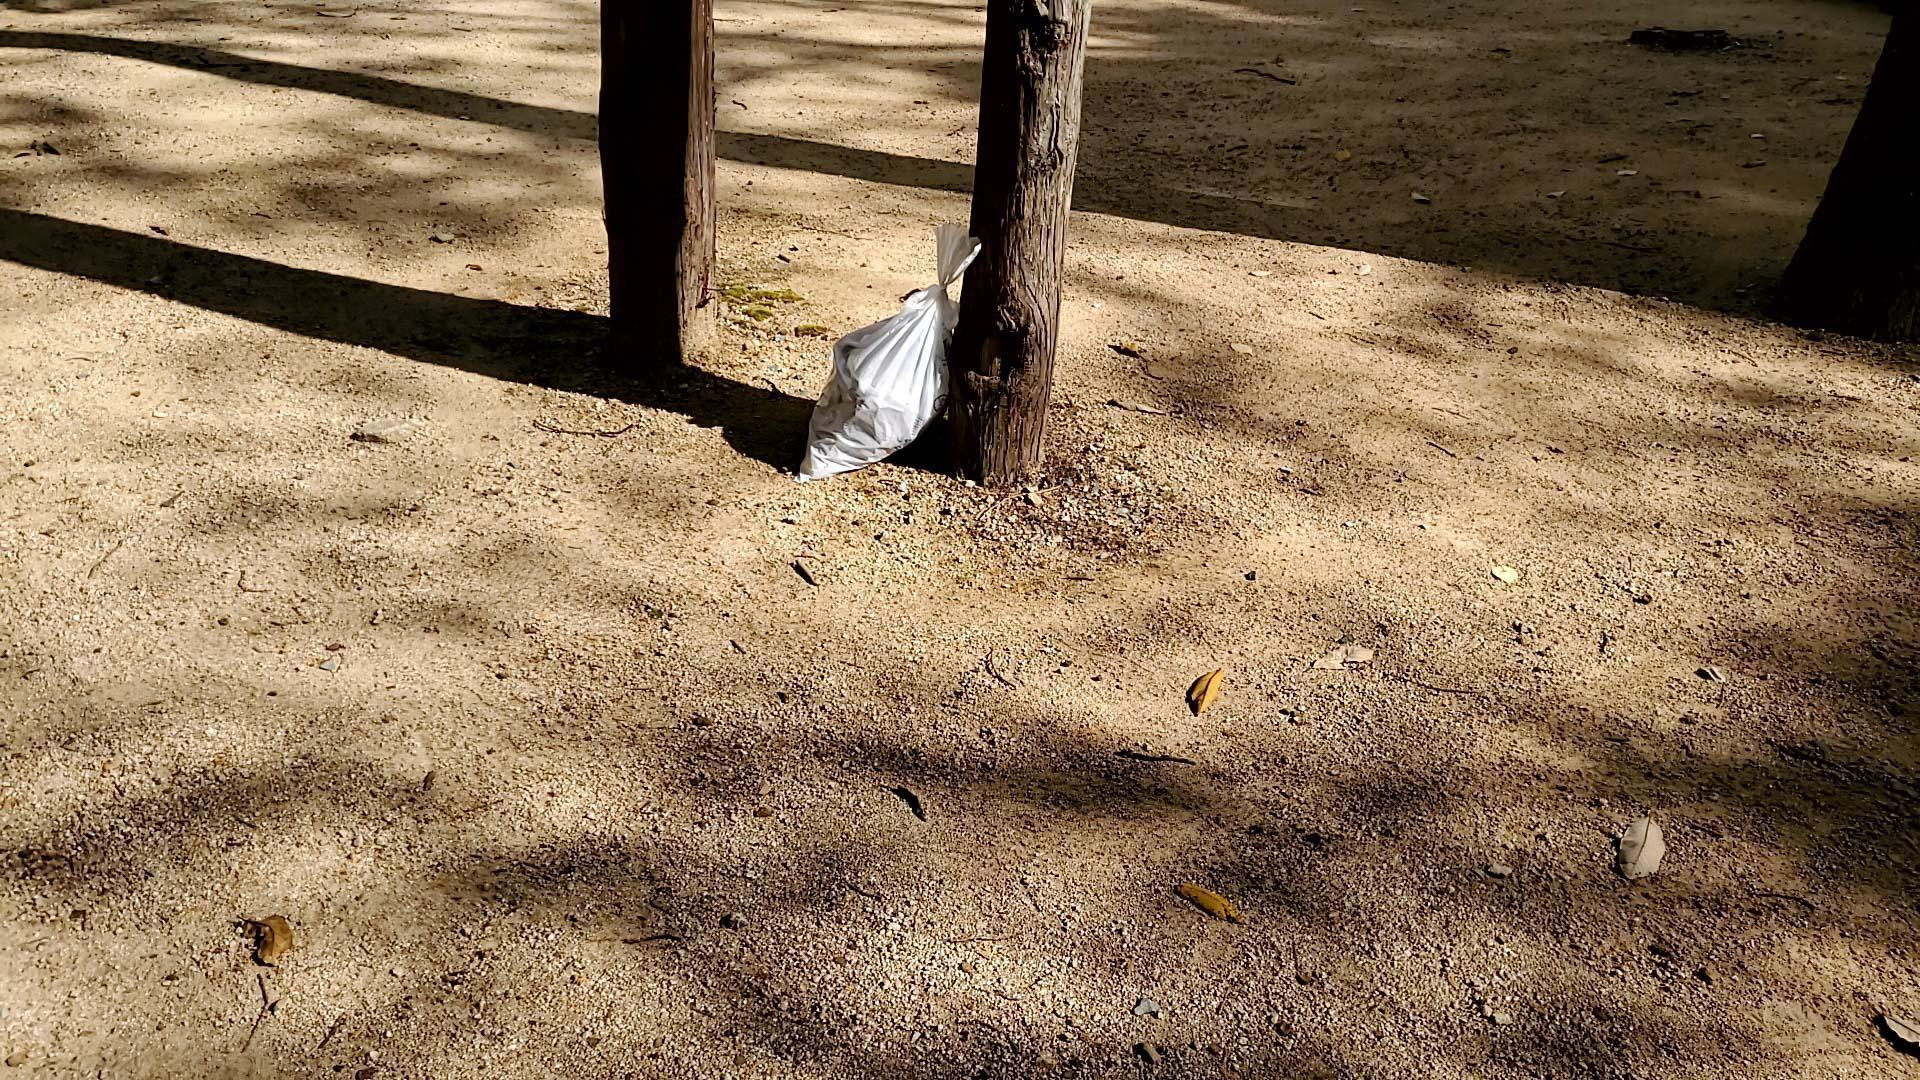white_bag: (785, 214, 1004, 495)
